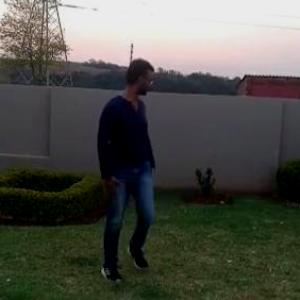follow: (92, 54, 156, 282)
